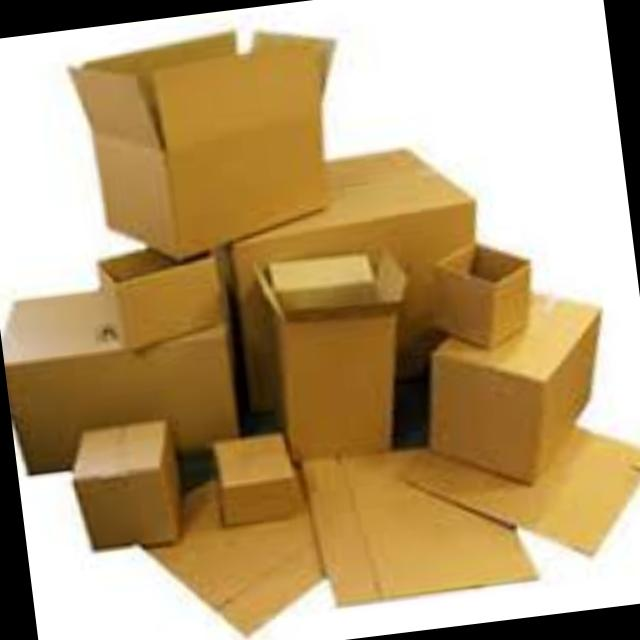cardboard paper: (234, 147, 473, 406), (67, 28, 325, 249), (0, 290, 233, 471), (304, 451, 533, 601), (427, 294, 595, 480), (408, 428, 640, 549), (147, 475, 318, 631), (275, 314, 392, 454), (104, 255, 220, 341)
